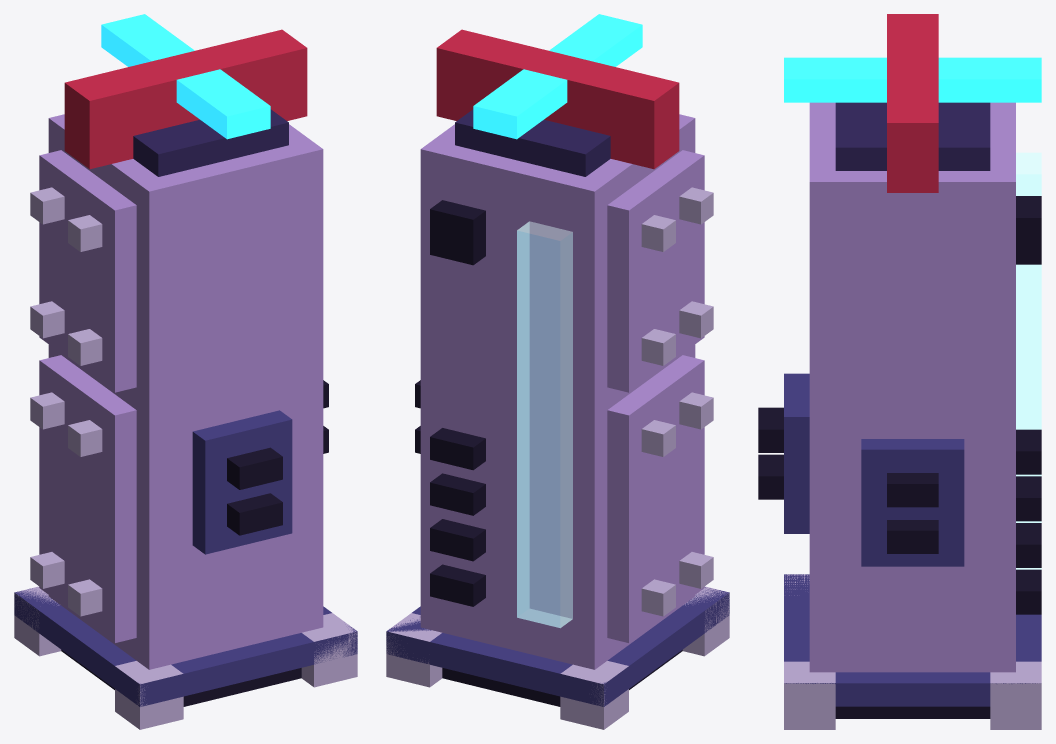
The model's file is life-support.sm.glb.
3 views of the same model, side by side, from view 1: azimuth 30°, elevation 25°; view 2: azimuth 150°, elevation 25°; view 3: azimuth 270°, elevation 25° (orthographic). The views are drawn at different scales.
Visible parts, largest first — view 1: life-support.sm; view 2: life-support.sm; view 3: life-support.sm.
Boxes of the visible parts, x1=… form: life-support.sm: x1=14, y1=14, x2=357, y2=729; life-support.sm: x1=386, y1=14, x2=729, y2=729; life-support.sm: x1=758, y1=14, x2=1041, y2=729.
Bounding box in the file's own units: 0.75 × 1.62 × 0.6875.
